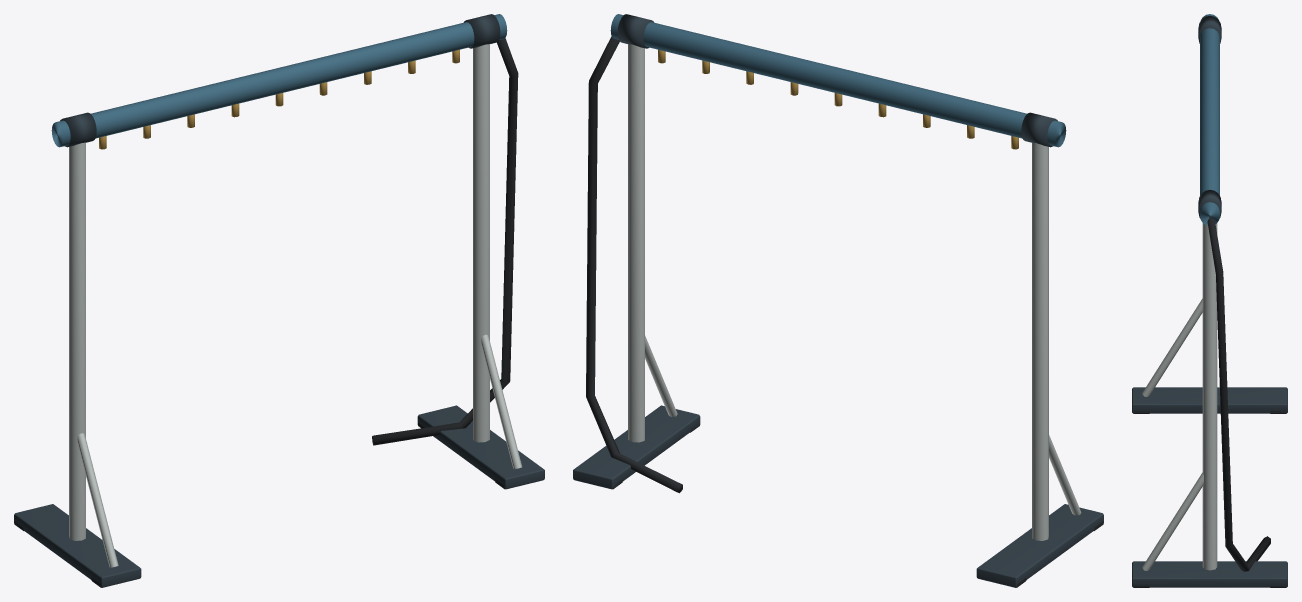
File: S080_rain_bar_rig_rebuilt.glb
The picture shows the model from 3 angles, left to right: view 1: azimuth 30°, elevation 25°; view 2: azimuth 150°, elevation 25°; view 3: azimuth 270°, elevation 25°; orthographic projection. The views are drawn at different scales.
Visible parts, largest first — view 1: silver, blue, shell, rubber, gold; view 2: silver, blue, shell, rubber, gold; view 3: shell, silver, blue, rubber.
Part boxes in pixels (bbox=[...]): silver: bbox=[69, 44, 522, 567]; blue: bbox=[51, 14, 507, 147]; shell: bbox=[14, 14, 544, 587]; rubber: bbox=[14, 38, 518, 587]; gold: bbox=[99, 49, 459, 149]; silver: bbox=[628, 44, 1081, 540]; blue: bbox=[610, 14, 1066, 147]; shell: bbox=[573, 14, 1103, 587]; rubber: bbox=[586, 36, 1103, 587]; gold: bbox=[658, 49, 1018, 149]; shell: bbox=[1132, 16, 1287, 587]; silver: bbox=[1142, 223, 1217, 570]; blue: bbox=[1200, 14, 1219, 225]; rubber: bbox=[1133, 216, 1286, 587].
Bounding box in the file's own units: 3.05 × 2.72 × 1.
